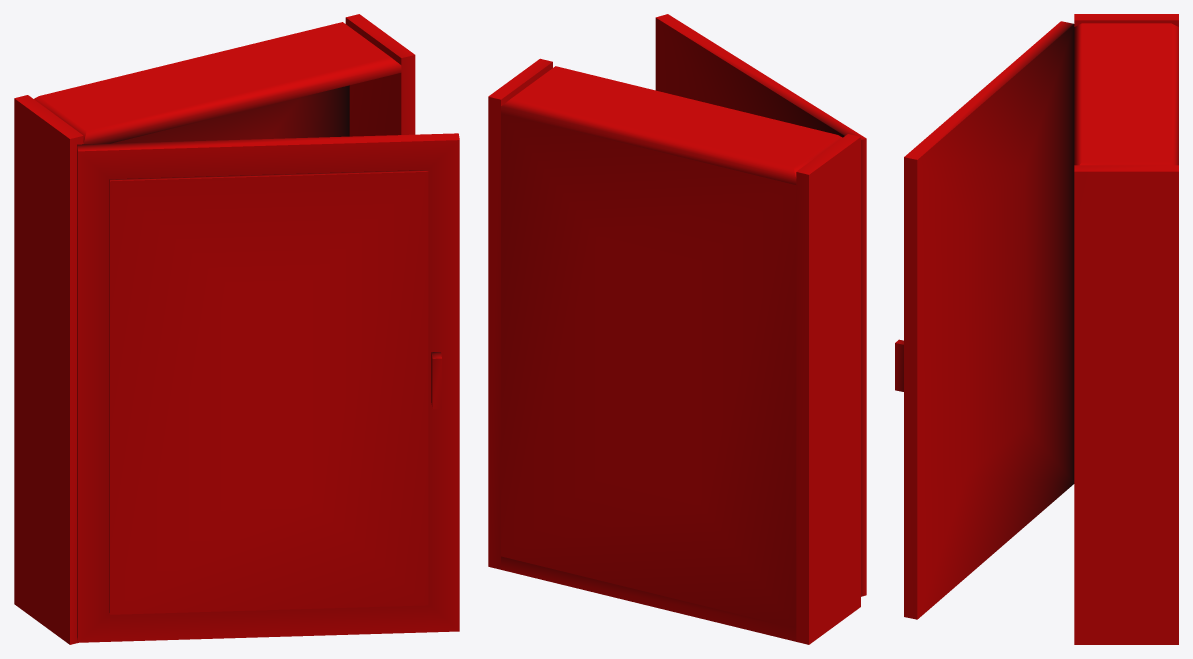
File: CI_Bathroom_MirrorCabinet.glb
3 views of the same model, side by side, from view 1: azimuth 30°, elevation 25°; view 2: azimuth 150°, elevation 25°; view 3: azimuth 270°, elevation 25° (orthographic). The views are drawn at different scales.
Parts seen in each view (by area): view 1: CI_Bathroom_MirrorCabinet; view 2: CI_Bathroom_MirrorCabinet; view 3: CI_Bathroom_MirrorCabinet.
Boxes of the visible parts, x1,y1,x2,y2 form: CI_Bathroom_MirrorCabinet: (14,14,459,644); CI_Bathroom_MirrorCabinet: (488,14,866,644); CI_Bathroom_MirrorCabinet: (895,14,1178,644).
Bounding box in the file's own units: 0.5 × 0.7 × 0.3803.
